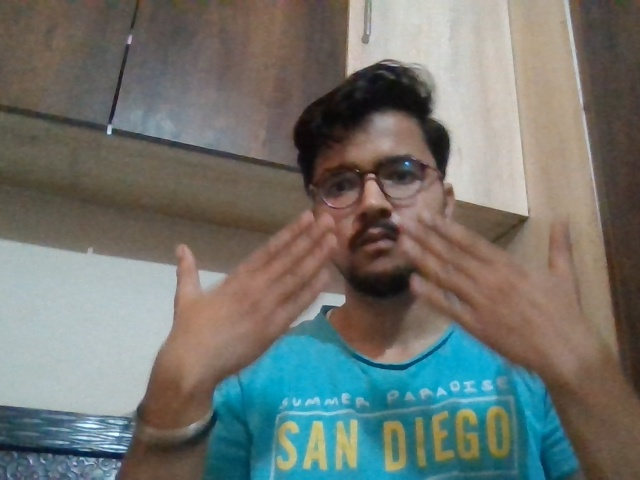thankyou: (159, 205, 608, 422)
